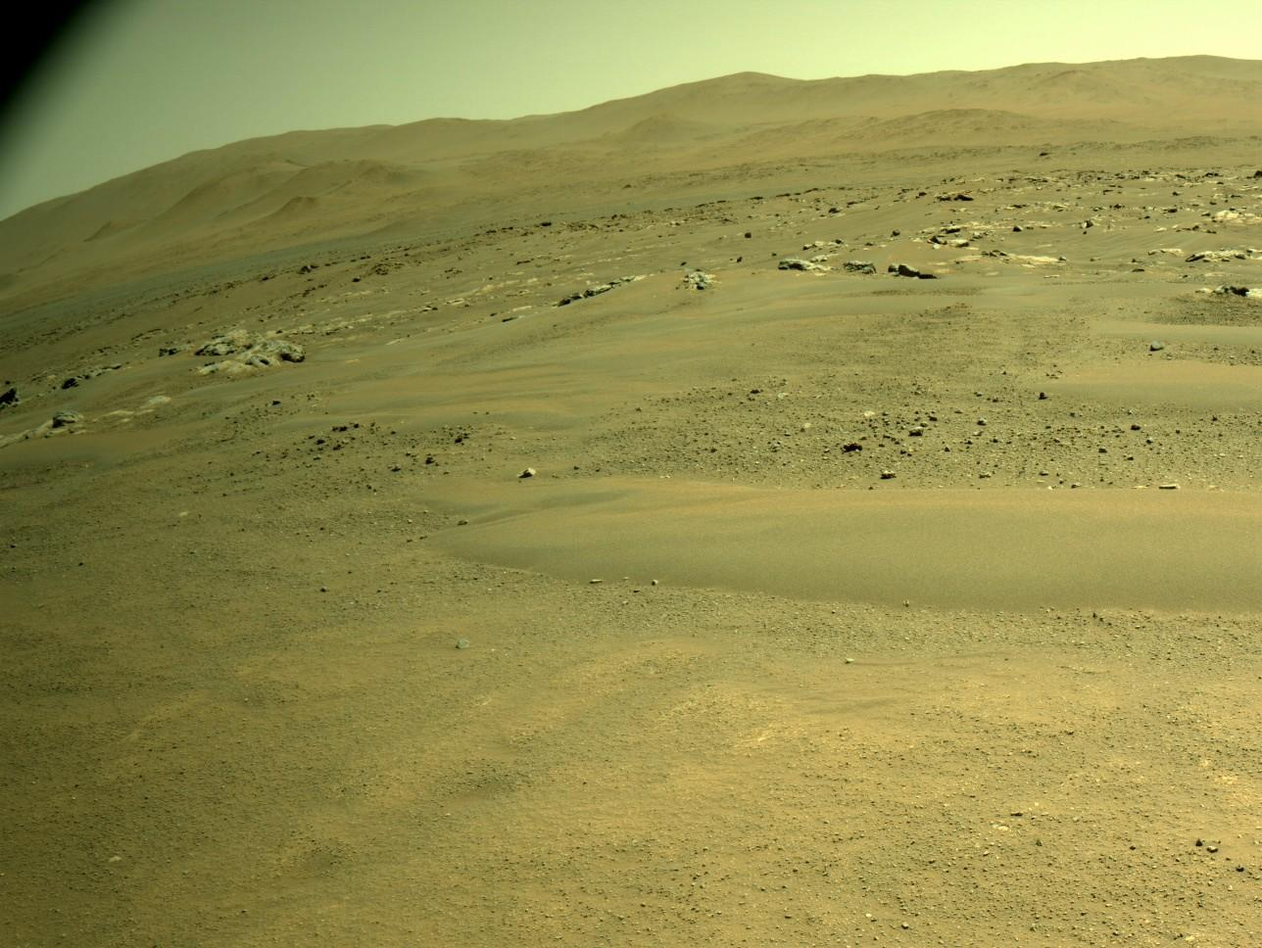bedrock: (20, 178, 1243, 439), (1252, 281, 1254, 300), (19, 441, 25, 443)
sand: (1, 56, 1256, 317), (432, 477, 1261, 616), (209, 280, 1034, 407)
soil: (1, 273, 1260, 947), (987, 150, 1251, 273), (1033, 281, 1044, 282)
